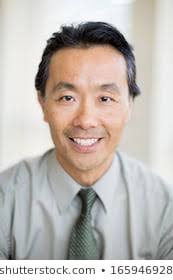asian_male: (39, 61, 125, 159)
